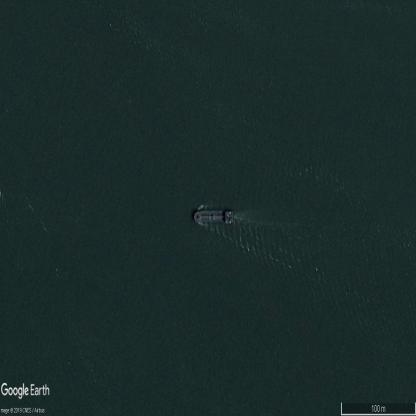ship: (192, 205, 236, 225)
